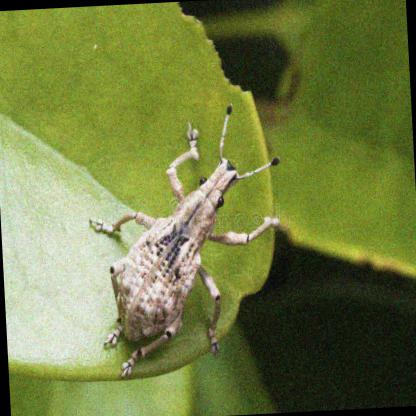ash weevil: (94, 109, 279, 376)
